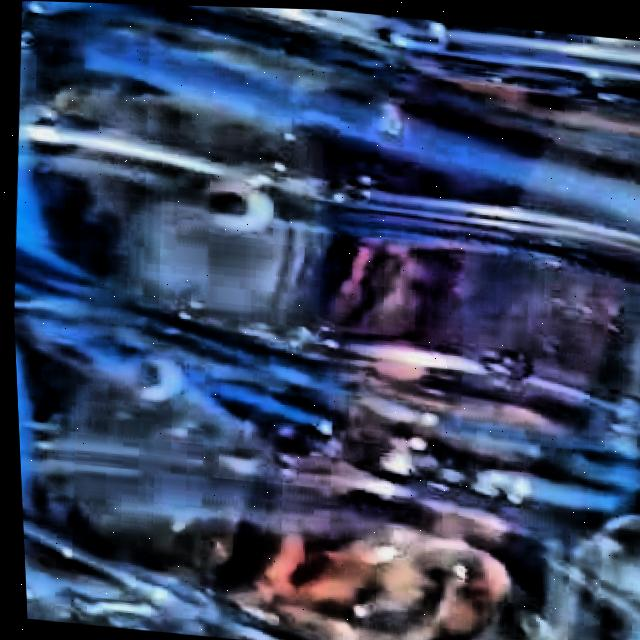plastic: (11, 1, 640, 640)
